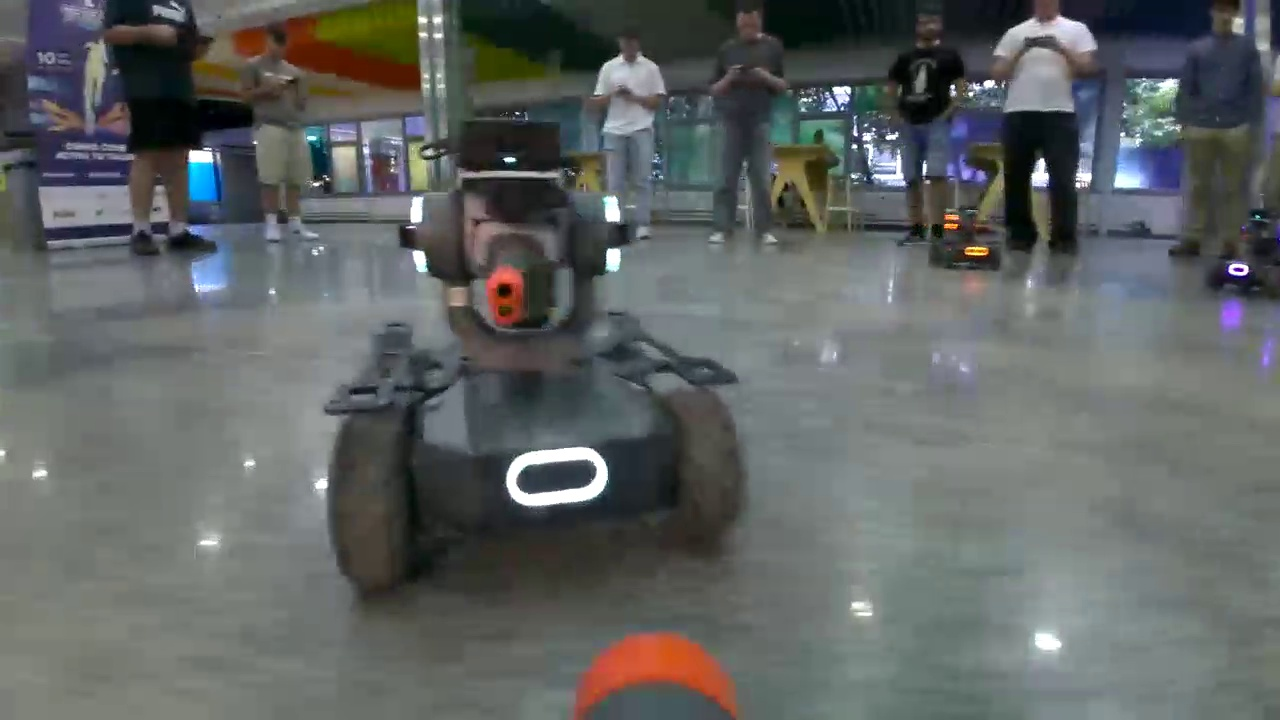robot: (324, 118, 747, 584), (1202, 209, 1280, 293), (929, 207, 1001, 270)
